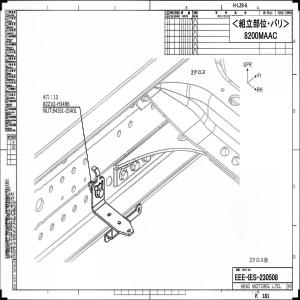PartNumber: (42, 100, 70, 107), (52, 108, 77, 114)
